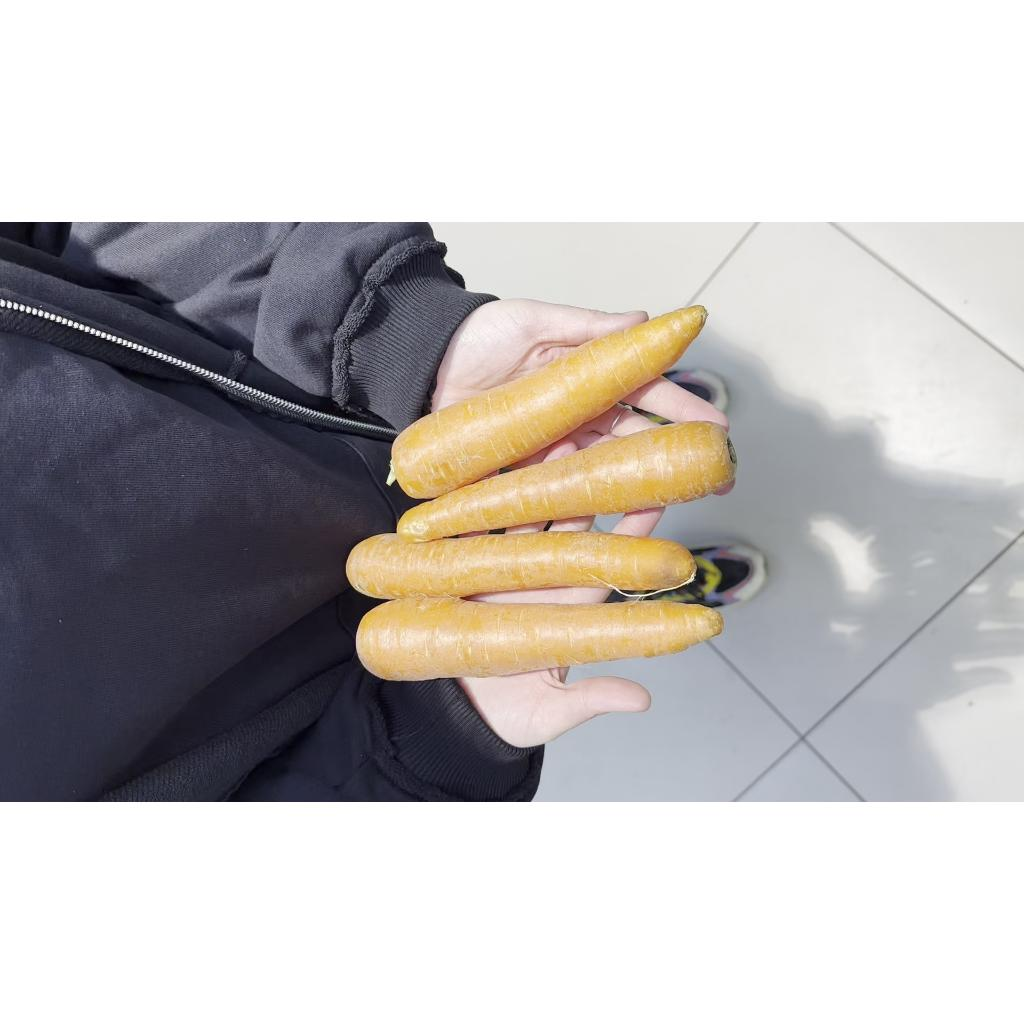carrot: (392, 306, 706, 498), (398, 422, 736, 542), (356, 598, 724, 680), (346, 532, 696, 600)
